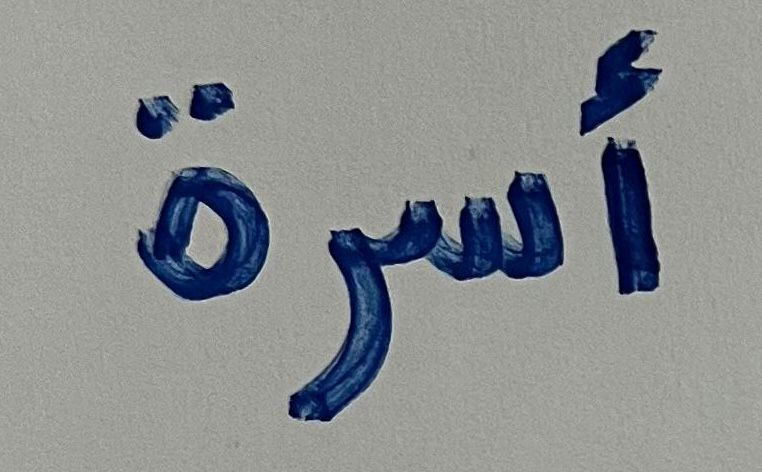hamza: (575, 16, 707, 328)
reh: (288, 210, 391, 434)
seen: (394, 133, 568, 310)
teh_marbota: (103, 67, 280, 314)
